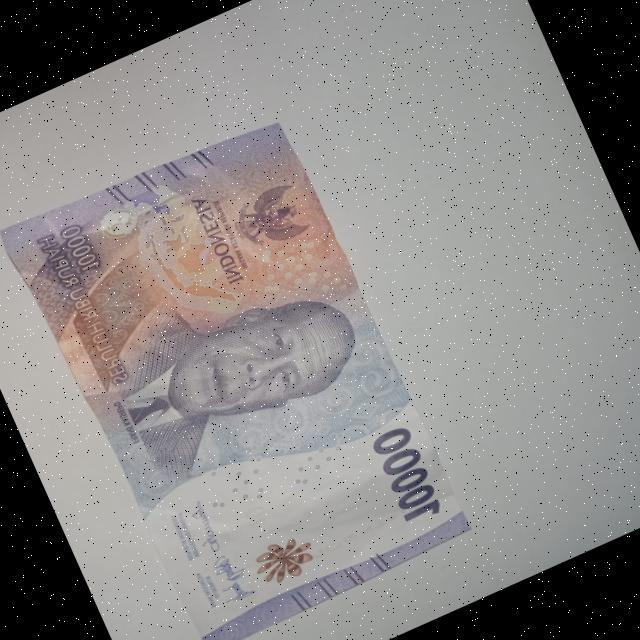10K: (0, 100, 482, 640)
